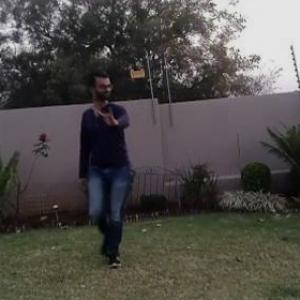takeoff-hand: (94, 97, 126, 128)
